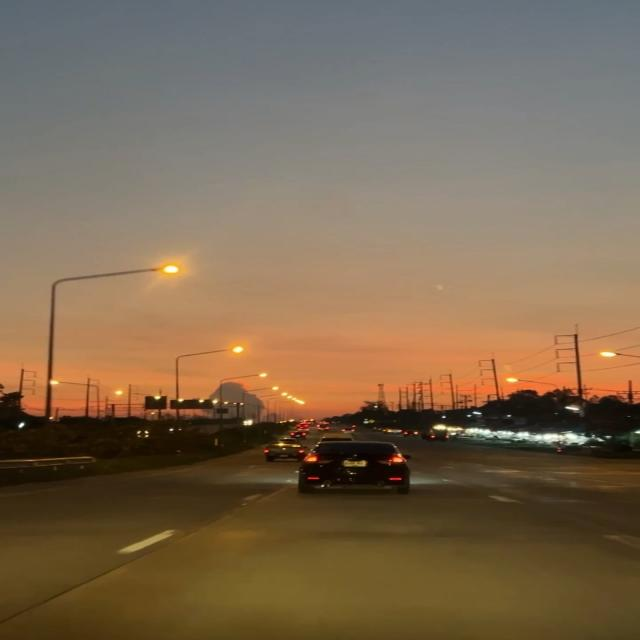Poth-hole: (77, 488, 535, 612)
